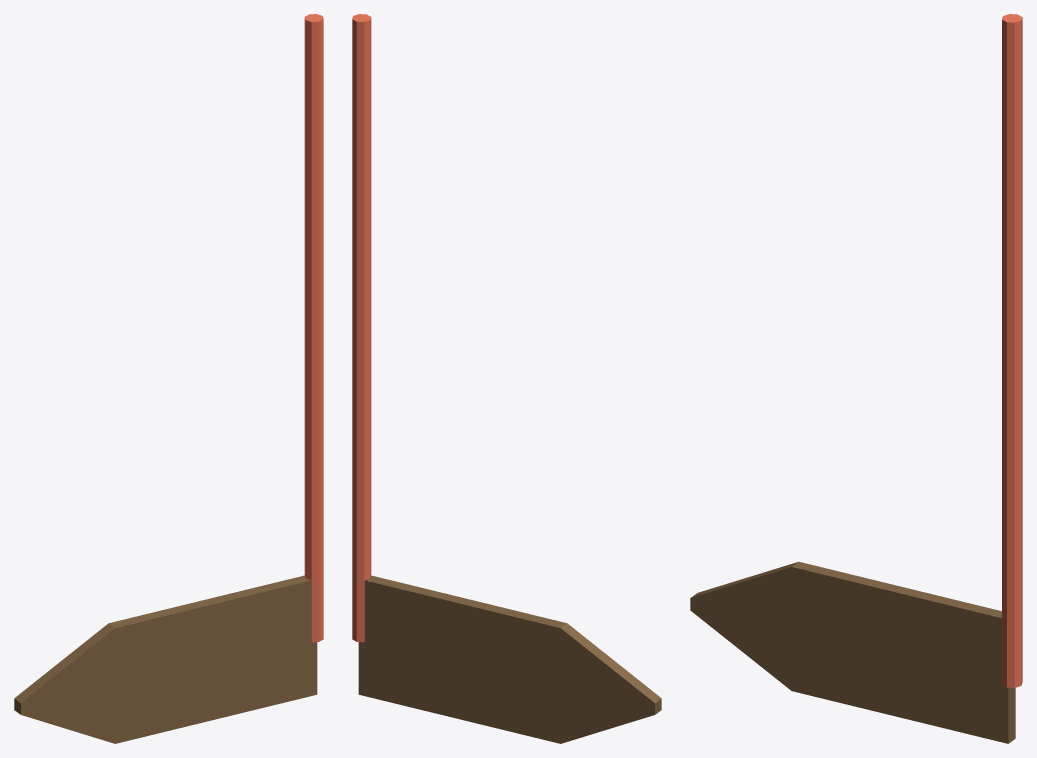
File: NagivationSign.fbx
3 renders of one model, left to right at view 1: azimuth 30°, elevation 25°; view 2: azimuth 150°, elevation 25°; view 3: azimuth 330°, elevation 25°, orthographic. The views are drawn at different scales.
Parts seen in each view (by area): view 1: Sign, Pole; view 2: Sign, Pole; view 3: Sign, Pole.
Part boxes in pixels (left/top/right/bottom): Sign: left=14, top=575, right=317, bottom=743; Pole: left=304, top=14, right=323, bottom=642; Sign: left=358, top=575, right=661, bottom=743; Pole: left=352, top=14, right=371, bottom=642; Sign: left=690, top=561, right=1015, bottom=743; Pole: left=1002, top=14, right=1022, bottom=687.
Bounding box in the file's own units: 1.56 × 3.29 × 0.0881.
